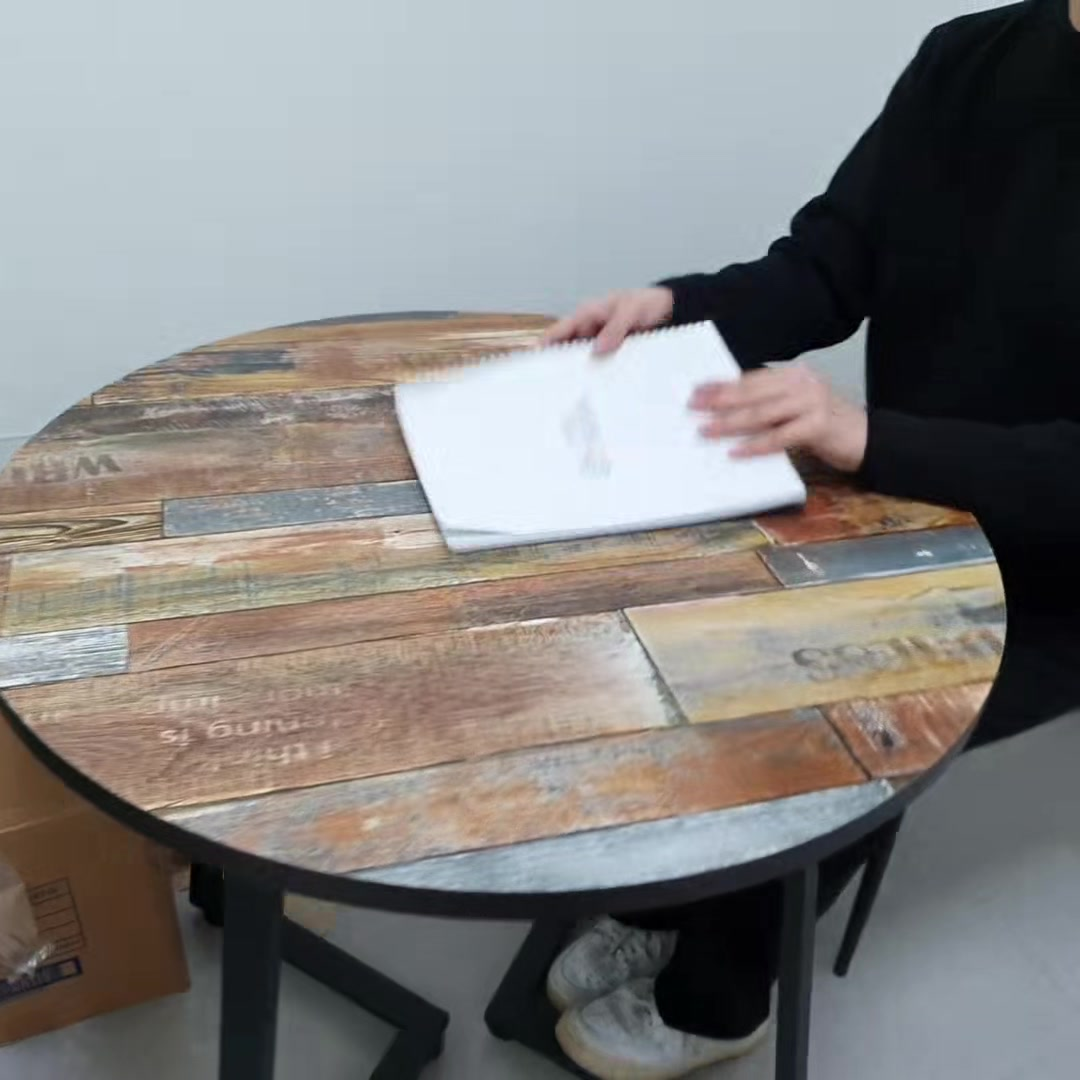book: (373, 308, 819, 551)
